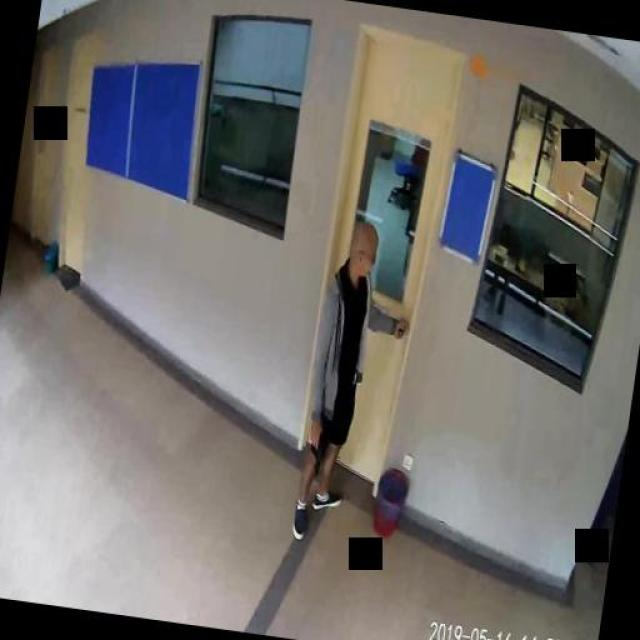gun: (304, 432, 325, 472)
